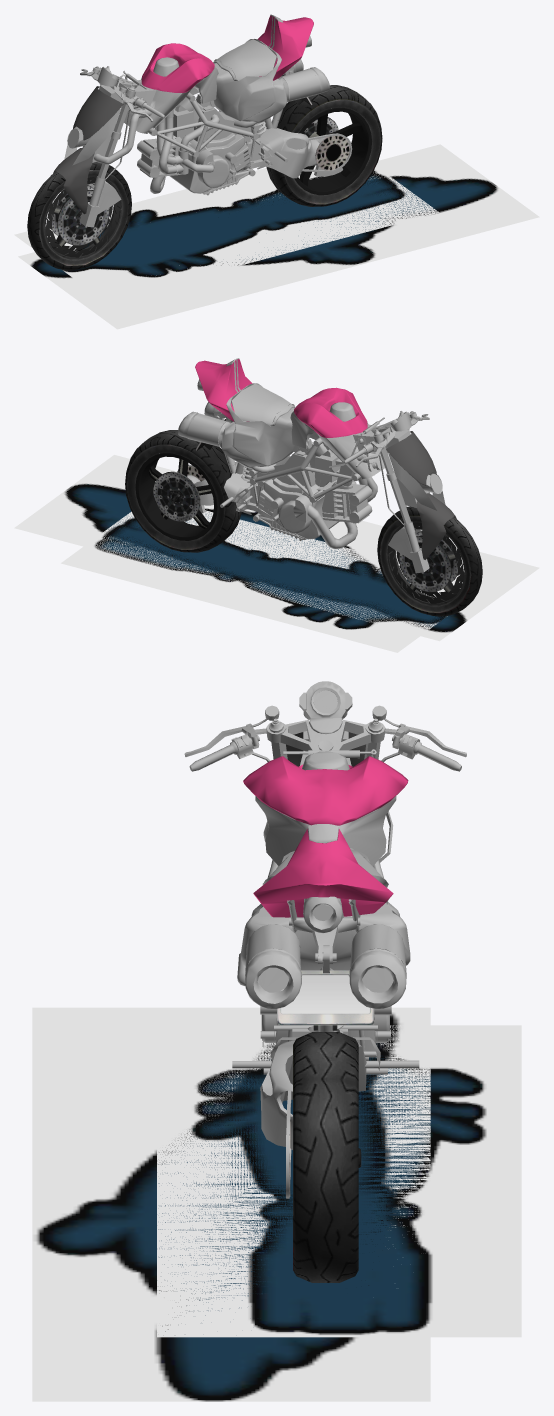
File: bike9.fbx
3 renders of one model, top to bottom at view 1: azimuth 30°, elevation 25°; view 2: azimuth 150°, elevation 25°; view 3: azimuth 270°, elevation 25°, orthographic. The views are drawn at different scales.
Visible parts, largest first — view 1: Shadow_DayLight, Shadow_SunSet, Reflection_AI, Chrome_AI, Lights_AI, Tyre_B, Body_AI, Rim_B, Rim_F, Tyre_F, SteeringBody_AI; view 2: Shadow_DayLight, Shadow_SunSet, Reflection_AI, Chrome_AI, Tyre_B, Rim_B, Lights_AI, Body_AI, Rim_F, Tyre_F, SteeringBody_AI; view 3: Shadow_SunSet, Shadow_DayLight, Chrome_AI, Tyre_B, Body_AI, Reflection_AI, Lights_AI, Plate.
Part boxes in pixels (bbox=[...]): Shadow_DayLight: bbox=[14, 165, 439, 301]; Shadow_SunSet: bbox=[18, 144, 539, 329]; Reflection_AI: bbox=[120, 16, 352, 194]; Chrome_AI: bbox=[94, 14, 329, 195]; Lights_AI: bbox=[64, 66, 165, 227]; Tyre_B: bbox=[266, 85, 382, 206]; Body_AI: bbox=[141, 15, 313, 92]; Rim_B: bbox=[294, 107, 371, 195]; Rim_F: bbox=[44, 176, 121, 259]; Tyre_F: bbox=[27, 162, 131, 270]; SteeringBody_AI: bbox=[53, 86, 123, 214]; Shadow_DayLight: bbox=[61, 510, 447, 652]; Shadow_SunSet: bbox=[14, 455, 539, 641]; Reflection_AI: bbox=[177, 359, 388, 539]; Chrome_AI: bbox=[178, 358, 429, 548]; Tyre_B: bbox=[125, 430, 241, 552]; Rim_B: bbox=[135, 452, 217, 540]; Lights_AI: bbox=[343, 411, 445, 573]; Body_AI: bbox=[195, 359, 367, 437]; Rim_F: bbox=[387, 521, 465, 605]; Tyre_F: bbox=[377, 506, 482, 616]; SteeringBody_AI: bbox=[386, 431, 456, 559]; Shadow_SunSet: bbox=[32, 1007, 430, 1401]; Shadow_DayLight: bbox=[157, 1025, 521, 1337]; Chrome_AI: bbox=[232, 749, 419, 1149]; Tyre_B: bbox=[293, 1032, 358, 1282]; Body_AI: bbox=[243, 756, 408, 917]; Reflection_AI: bbox=[245, 750, 406, 1198]; Lights_AI: bbox=[184, 681, 466, 771]; Plate: bbox=[277, 970, 374, 1025].
Bounding box in the file's own units: 261 × 117 × 126.
